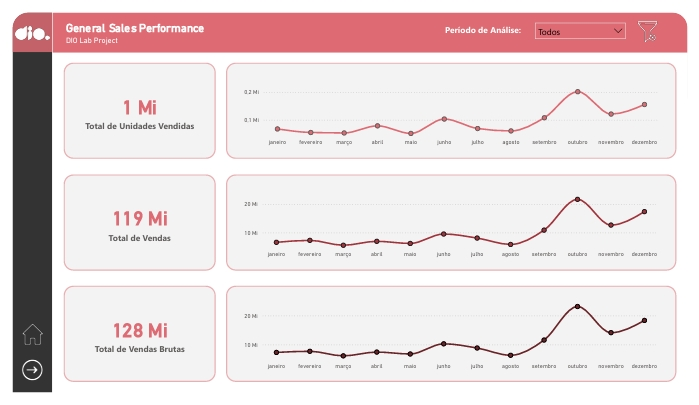

The page's visual inventory and layout, read from the dashboard file:
{"tool":"powerbi","page":{"name":"General Performance","canvas":[1280,720],"ordinal":1},"visuals":[{"type":"shape","box":[0,0,75,75.3],"z":0,"group":"g2"},{"type":"group","id":"g1","title":"Barra de Navegação","box":[0,0,75,720],"z":0},{"type":"shape","title":"Faixa Lateral","box":[0,0,75,720],"z":0,"group":"g1"},{"type":"slicer","fields":{"Values":["financials.Data.Variation.Hierarquia de datas.Ano"]},"box":[981.4,8.6,191.4,52.9],"z":0,"group":"g3"},{"type":"shape","title":"BG Elementos Gráficos","box":[405,95,853.3,181.7],"z":0,"group":"g6"},{"type":"shape","title":"BG Elementos Gráficos","box":[405,306.7,853.3,181.7],"z":0,"group":"g5"},{"type":"shape","title":"BG Elementos Gráficos","box":[405,518.3,853.3,181.7],"z":0,"group":"g4"},{"type":"group","id":"g2","title":"Cabeçalho","box":[0,0,1280,75.7],"z":1000},{"type":"textbox","box":[793,3.7,199,53],"z":1000,"group":"g3"},{"type":"image","title":"Logo DIO","box":[5.3,6.5,64.7,65.3],"z":1000,"group":"g2"},{"type":"shape","title":"BG Elementos Gráficos","box":[96.7,95,288,181.7],"z":1000,"group":"g6"},{"type":"shape","title":"BG Elementos Gráficos","box":[96.7,306.7,288.3,181.7],"z":1000,"group":"g5"},{"type":"shape","title":"BG Elementos Gráficos","box":[96.7,518.3,288.3,181.7],"z":1000,"group":"g4"},{"type":"image","title":"Botão Avançar Página","box":[15,655,45,45],"z":1000,"group":"g1"},{"type":"image","title":"Botão Home Page","box":[15.4,587.7,44.6,43.8],"z":1500,"group":"g1"},{"type":"shape","box":[75.7,0,1204.3,75.7],"z":2000,"group":"g2"},{"type":"group","id":"g3","title":"Filtro de Análise","box":[793,3.7,437,57.8],"z":2000},{"type":"image","title":"Botão Limpar Filtros","box":[1178.6,15.7,51.4,38.6],"z":2000,"group":"g3"},{"type":"card","title":"Total de Unidades Vendidas","fields":{"Values":["Sum(financials.Unidades Vendidas)"]},"box":[96.7,95,288.3,181.7],"z":2000,"group":"g6"},{"type":"lineChart","fields":{"Y":["Sum(financials.Vendas)"],"Category":["financials.Data.Variation.Hierarquia de datas.Mês"]},"box":[433.4,321.7,796.7,150],"z":2000,"group":"g5"},{"type":"lineChart","fields":{"Y":["Sum(financials.Vendas Brutas)"],"Category":["financials.Data.Variation.Hierarquia de datas.Mês"]},"box":[433.4,533.3,796.7,150],"z":2000,"group":"g4"},{"type":"textbox","title":"Título","box":[96,1,594,68],"z":3000,"group":"g2"},{"type":"lineChart","fields":{"Y":["Sum(financials.Unidades Vendidas)"],"Category":["financials.Data.Variation.Hierarquia de datas.Mês"]},"box":[433.4,110,796.7,150],"z":3000,"group":"g6"},{"type":"card","title":"Total de Unidades Vendidas","fields":{"Values":["Sum(financials.Vendas)"]},"box":[96.7,306.7,288.3,181.7],"z":3000,"group":"g5"},{"type":"group","id":"g4","title":"Vendas Brutas","box":[96.7,518.3,1161.7,181.7],"z":3000},{"type":"card","title":"Total de Unidades Vendidas","fields":{"Values":["Sum(financials.Vendas Brutas)"]},"box":[96.7,518.3,288.3,181.7],"z":3000,"group":"g4"},{"type":"group","id":"g5","title":"Vendas Líquidas","box":[96.7,306.7,1161.7,181.7],"z":4000},{"type":"group","id":"g6","title":"Unidades Vendidas","box":[96.7,95,1161.7,181.7],"z":6000}]}

Visuals, with their boxes in screenshot pixels (x1, y1, x2, y2), scaled from the page's 1280x720 canvas onto the 699x405 screenshot:
shape: <region>0, 0, 41, 42</region>
"Barra de Navegação" group: <region>0, 0, 41, 404</region>
"Faixa Lateral" shape: <region>0, 0, 41, 404</region>
slicer - financials.Data.Variation.Hierarquia de datas.Ano: <region>536, 5, 640, 35</region>
"BG Elementos Gráficos" shape: <region>221, 53, 687, 156</region>
"BG Elementos Gráficos" shape: <region>221, 173, 687, 275</region>
"BG Elementos Gráficos" shape: <region>221, 292, 687, 394</region>
"Cabeçalho" group: <region>0, 0, 698, 43</region>
textbox: <region>433, 2, 542, 32</region>
"Logo DIO" image: <region>3, 4, 38, 40</region>
"BG Elementos Gráficos" shape: <region>53, 53, 210, 156</region>
"BG Elementos Gráficos" shape: <region>53, 173, 210, 275</region>
"BG Elementos Gráficos" shape: <region>53, 292, 210, 394</region>
"Botão Avançar Página" image: <region>8, 368, 33, 394</region>
"Botão Home Page" image: <region>8, 331, 33, 355</region>
shape: <region>41, 0, 698, 43</region>
"Filtro de Análise" group: <region>433, 2, 672, 35</region>
"Botão Limpar Filtros" image: <region>644, 9, 672, 31</region>
"Total de Unidades Vendidas" card: <region>53, 53, 210, 156</region>
lineChart - Sum(financials.Vendas) x financials.Data.Variation.Hierarquia de datas.Mês: <region>237, 181, 672, 265</region>
lineChart - Sum(financials.Vendas Brutas) x financials.Data.Variation.Hierarquia de datas.Mês: <region>237, 300, 672, 384</region>
"Título" textbox: <region>52, 1, 377, 39</region>
lineChart - Sum(financials.Unidades Vendidas) x financials.Data.Variation.Hierarquia de datas.Mês: <region>237, 62, 672, 146</region>
"Total de Unidades Vendidas" card: <region>53, 173, 210, 275</region>
"Vendas Brutas" group: <region>53, 292, 687, 394</region>
"Total de Unidades Vendidas" card: <region>53, 292, 210, 394</region>
"Vendas Líquidas" group: <region>53, 173, 687, 275</region>
"Unidades Vendidas" group: <region>53, 53, 687, 156</region>
